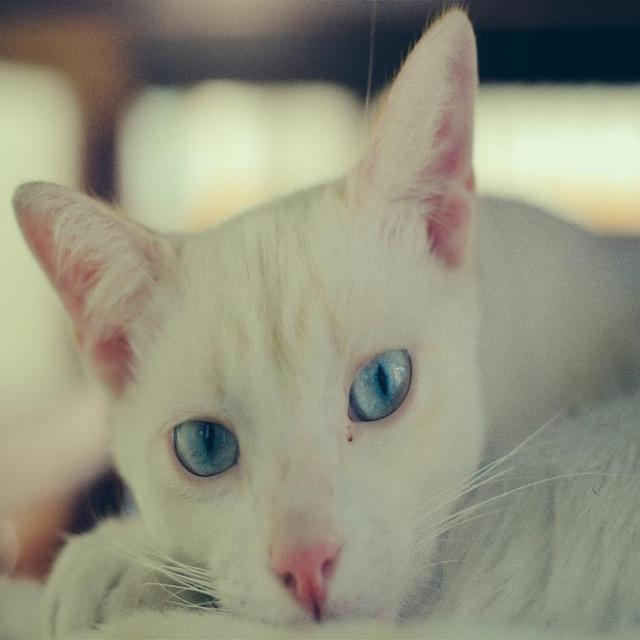Cat: (9, 0, 639, 638)
